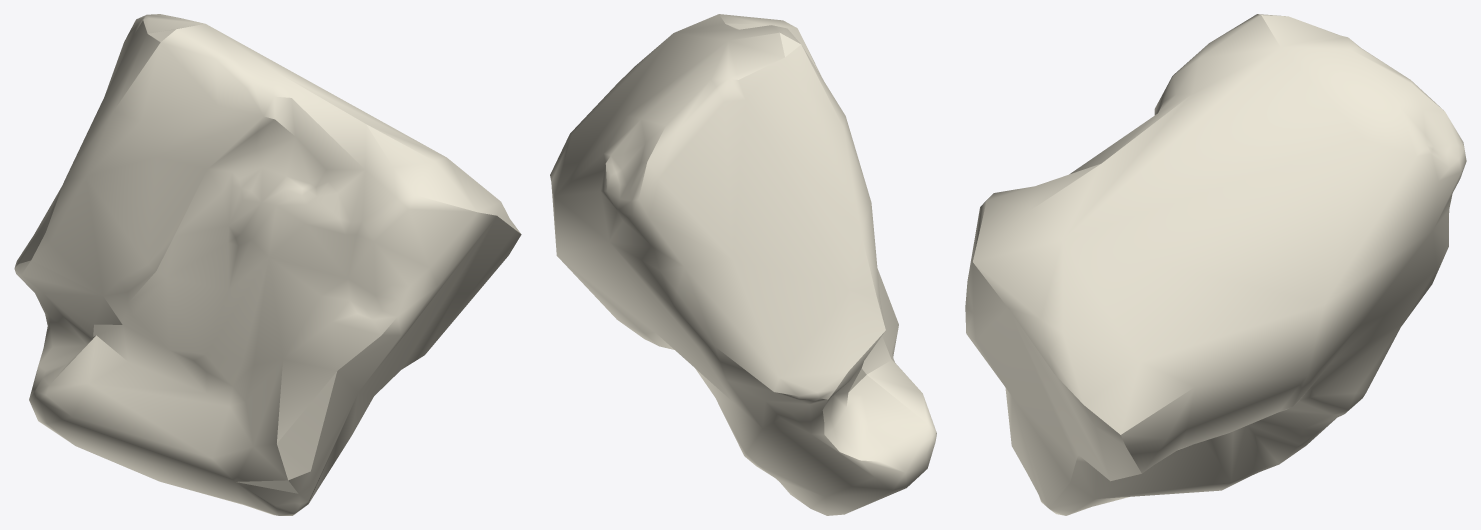
File: fma24526_fj6378.glb
3 renders of one model, left to right at view 1: azimuth 30°, elevation 25°; view 2: azimuth 150°, elevation 25°; view 3: azimuth 270°, elevation 25°, orthographic. The views are drawn at different scales.
Visible parts, largest first — view 1: FMA24526_FJ6378; view 2: FMA24526_FJ6378; view 3: FMA24526_FJ6378.
Part boxes in pixels (<box>): FMA24526_FJ6378: <box>14,14,521,515</box>; FMA24526_FJ6378: <box>550,14,936,515</box>; FMA24526_FJ6378: <box>965,14,1466,515</box>.
Size of the model in its own units: 0.0256 by 0.0257 by 0.0241.
